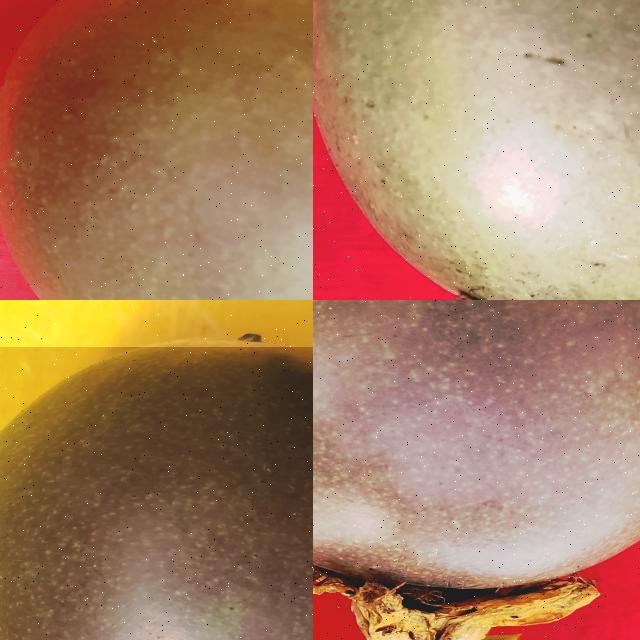Estado-4: (313, 300, 640, 640), (0, 347, 313, 640)
